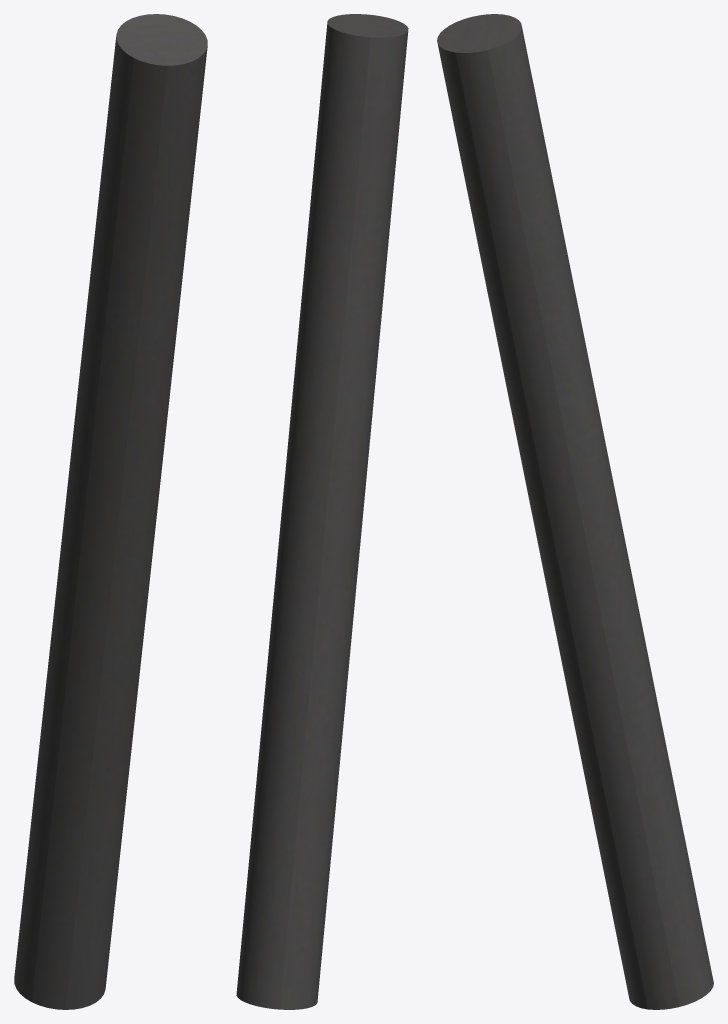
The model's file is stand__right_top_rail.glb.
The picture shows the model from 3 angles, left to right: view 1: azimuth 30°, elevation 25°; view 2: azimuth 150°, elevation 25°; view 3: azimuth 270°, elevation 25°; orthographic projection. The views are drawn at different scales.
Parts seen in each view (by area): view 1: geometry_0; view 2: geometry_0; view 3: geometry_0.
Boxes of the visible parts, x1,y1,x2,y2 form: geometry_0: (14, 14, 207, 1009); geometry_0: (236, 14, 408, 1009); geometry_0: (437, 14, 713, 1009).
Size of the model in its own units: 0.036 by 0.4464 by 0.1154.
1 material, 1 textured.
